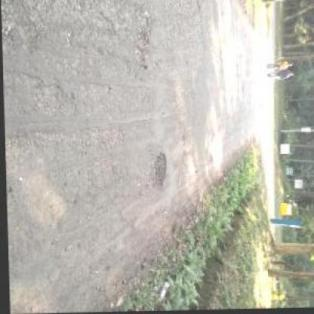Hueco: (144, 154, 168, 193), (133, 33, 149, 65)
